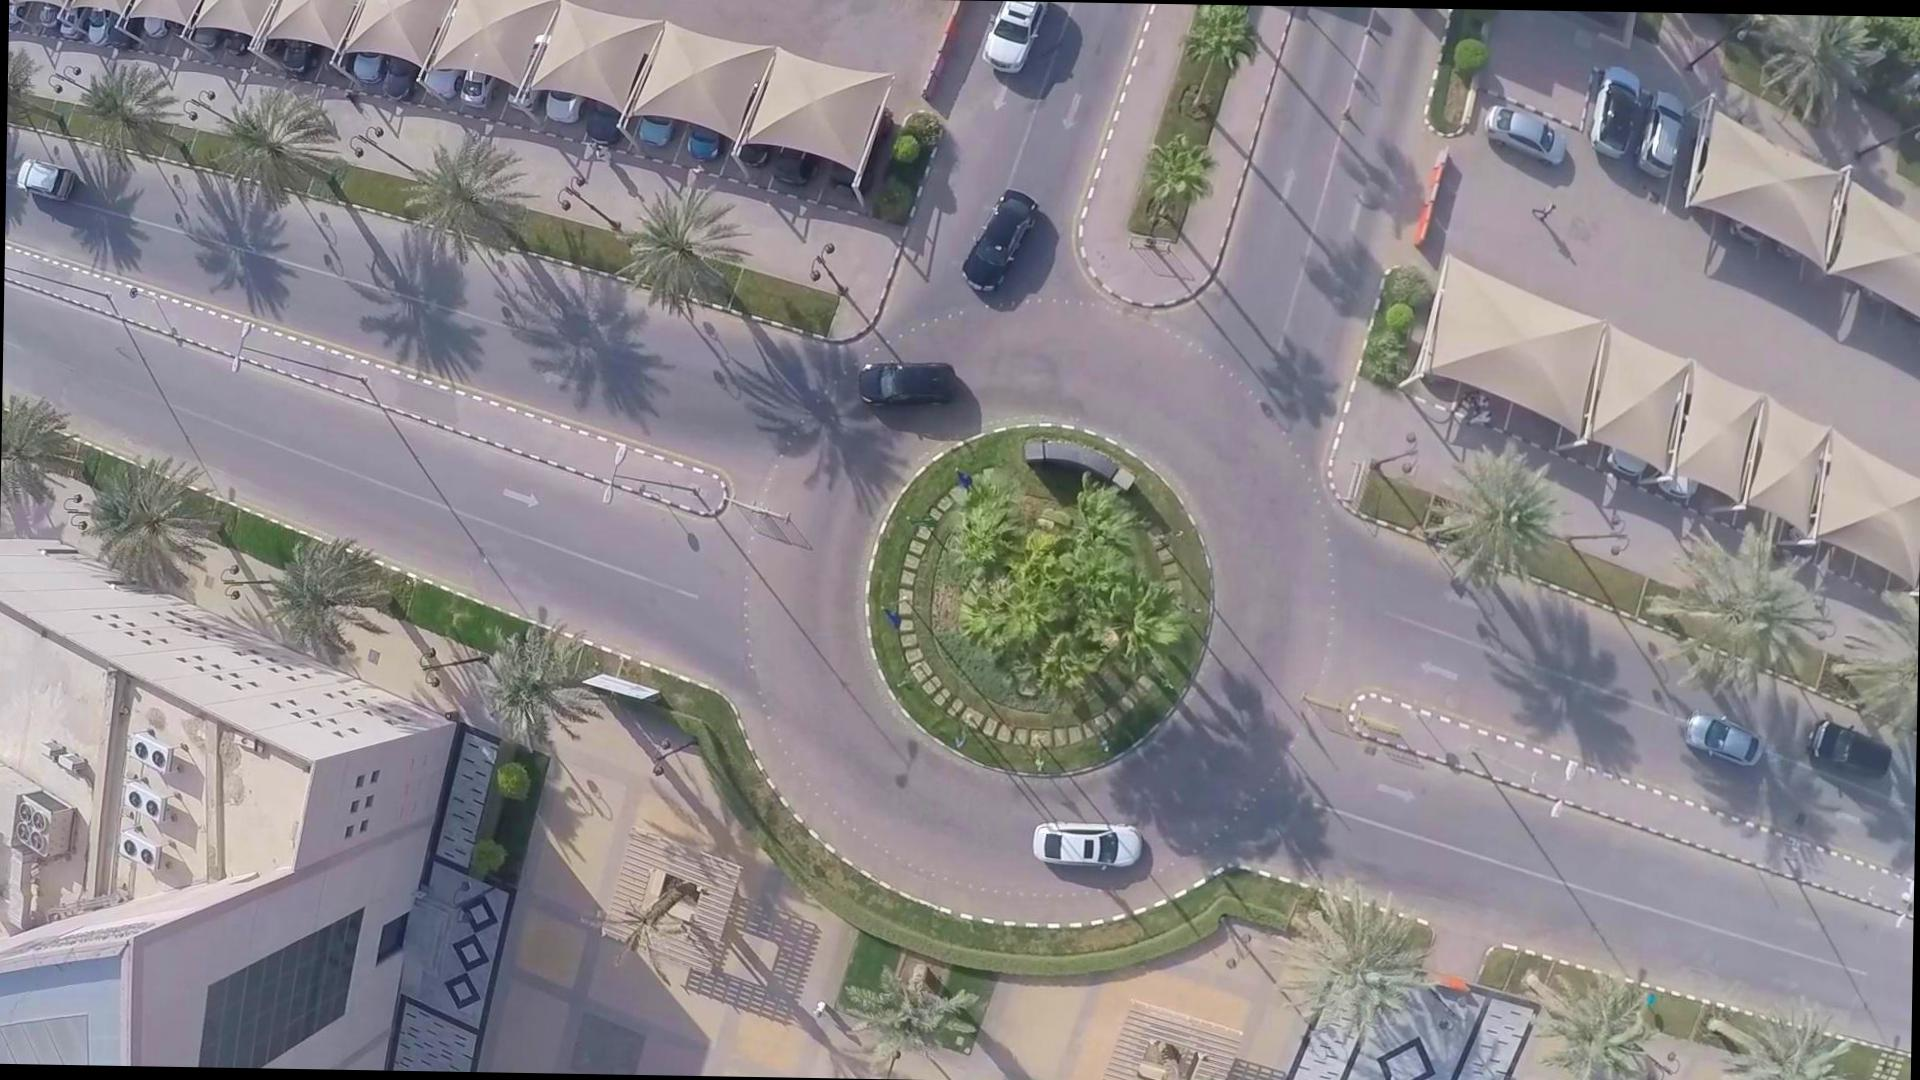vehicle: (952, 174, 1046, 298), (1036, 808, 1158, 877), (964, 3, 1040, 86), (1813, 713, 1900, 785), (848, 360, 967, 410), (1685, 707, 1760, 765), (13, 154, 83, 199)
